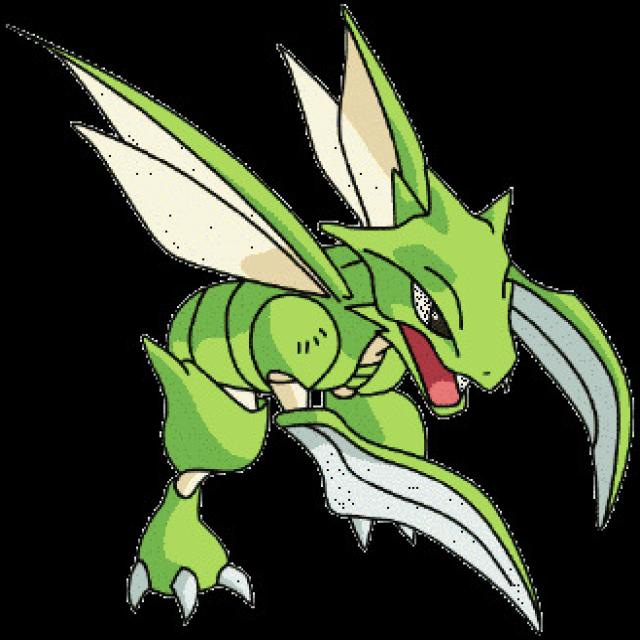Scyther: (129, 53, 620, 599)
